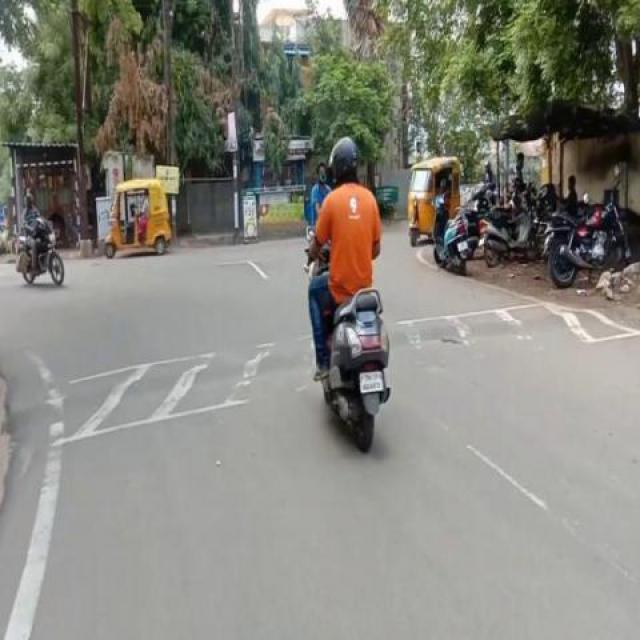Speed Bump: (9, 343, 312, 434), (390, 311, 608, 348)
